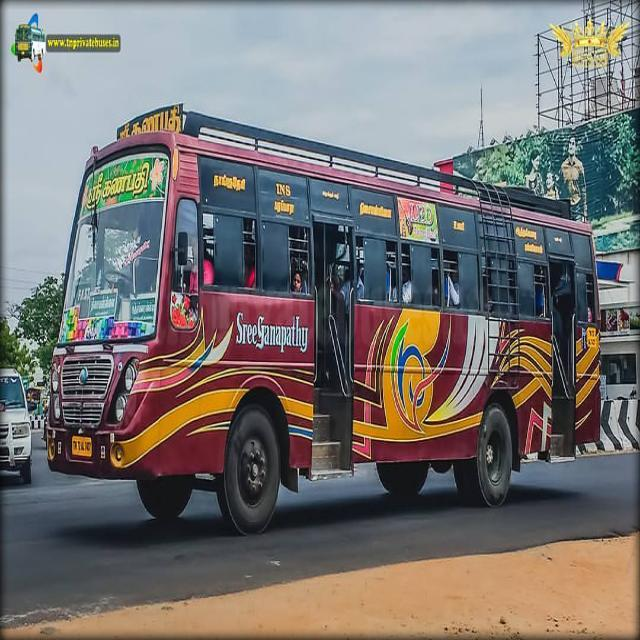Bus: (39, 101, 604, 537)
